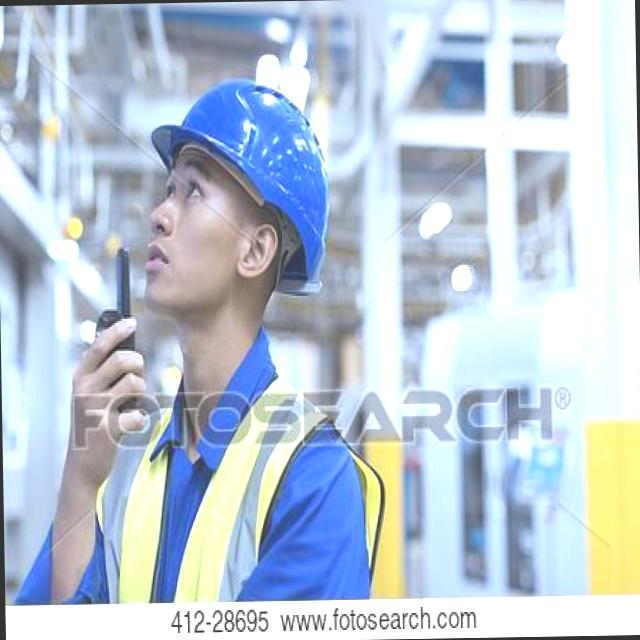helmet: (152, 70, 337, 254)
vest: (82, 392, 368, 586)
